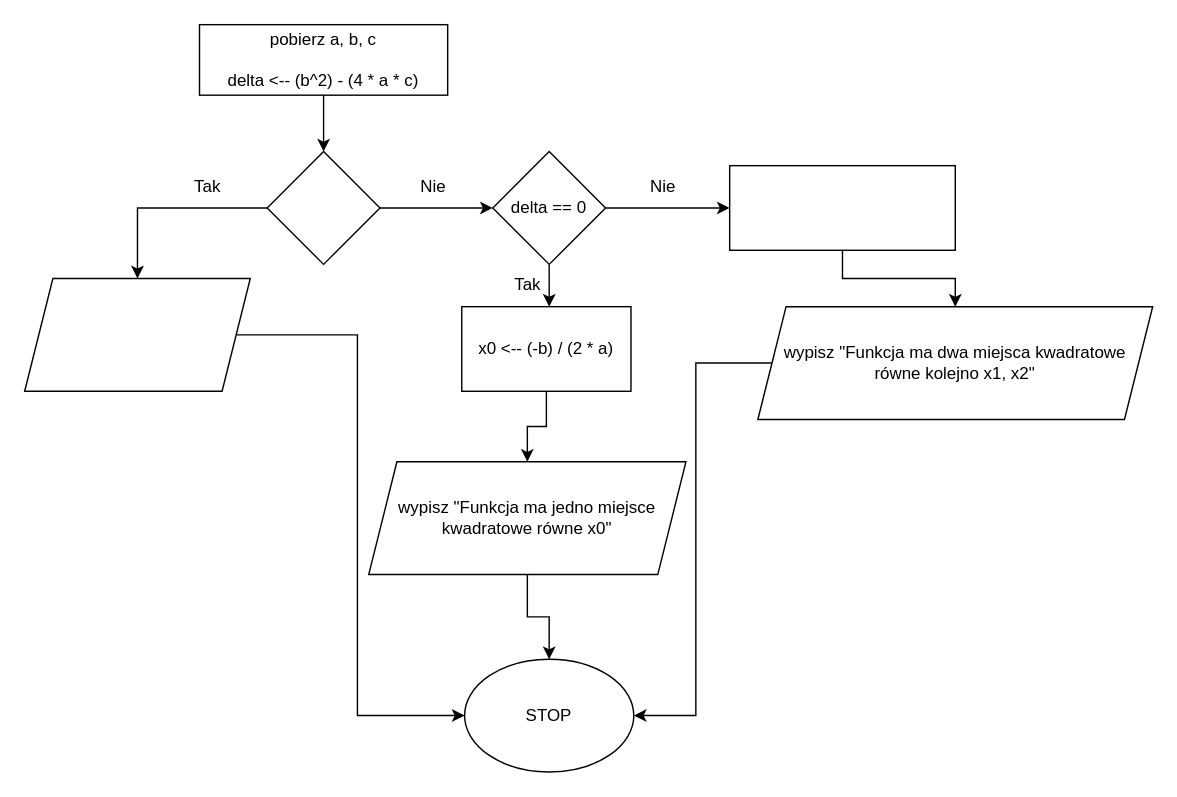
Image size: 1177x797. Some labels were removed from this diagram. The shapes that lost their labels are listed below. From the top down, each one's box as (x1, y1, x2, y2) in pixels, then its label:
(266, 150, 380, 264): delta < 0
(728, 164, 955, 250): x1 <-- ((-b) - delta//2)) / 2a x2 <-- ((-b) + delta//2)) / 2a
(23, 277, 250, 391): wypisz "Funkcja nie ma miejsc zerowych"
